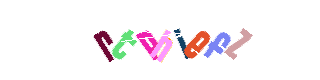E: (156, 0, 236, 80)
F: (178, 0, 258, 80)
H: (118, 0, 198, 80)
I: (122, 0, 202, 80)
P: (107, 0, 187, 80)
R: (83, 0, 163, 80)
T: (87, 0, 167, 80)
Z: (180, 0, 260, 80)
